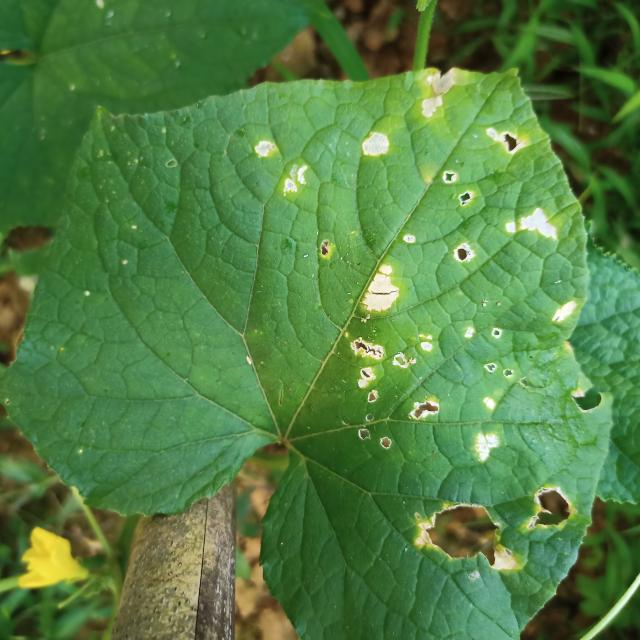disease_cucumber: (344, 327, 448, 454), (409, 498, 523, 579), (250, 137, 314, 201), (524, 481, 578, 542), (500, 203, 562, 246), (359, 262, 399, 318), (417, 70, 461, 118), (471, 426, 506, 472), (355, 126, 396, 164), (482, 123, 525, 159), (442, 166, 473, 208), (548, 296, 578, 327), (451, 241, 475, 267)
